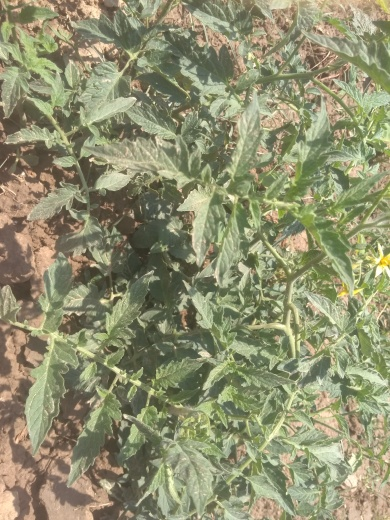tomato diseased leaf: (81, 130, 177, 183)
tomato flower: (321, 275, 365, 313), (361, 231, 390, 281)
tomato plant: (7, 2, 380, 500)
